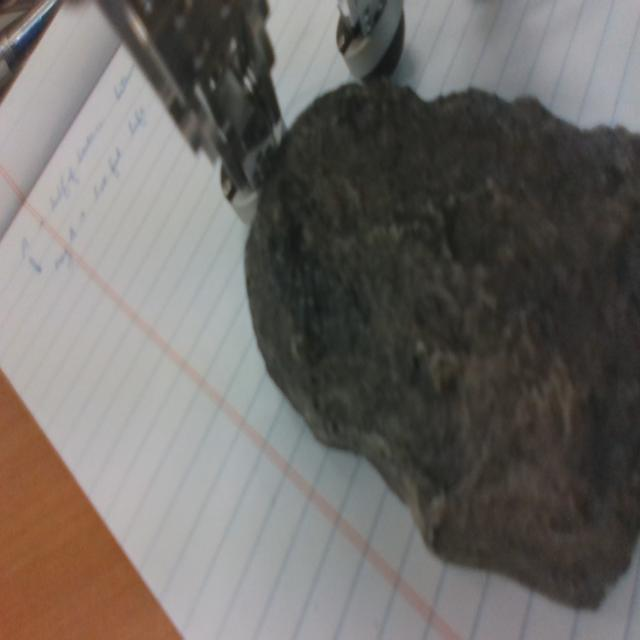stone: (245, 80, 640, 610)
